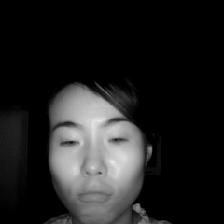sad: (21, 62, 157, 224)
